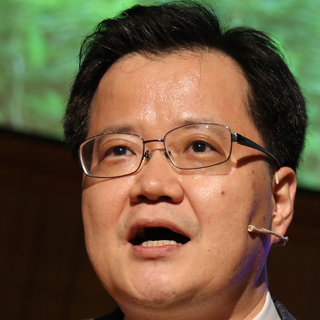eye: (177, 136, 225, 164), (93, 142, 141, 166)
